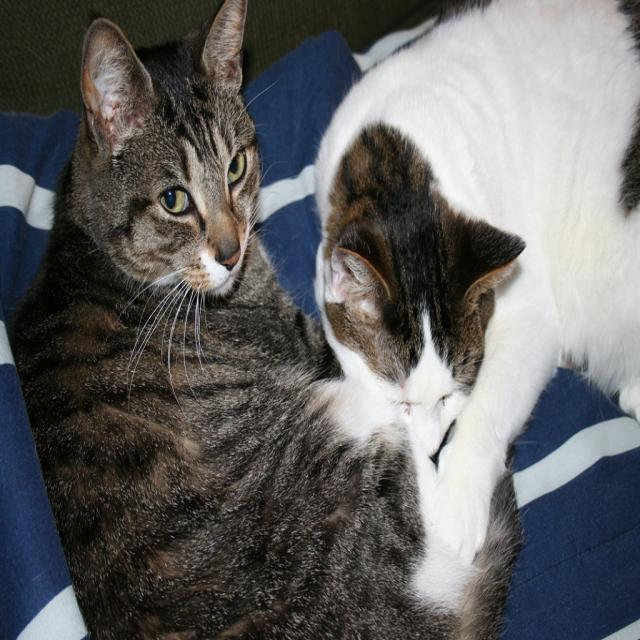Cat: (6, 0, 532, 638), (301, 0, 639, 568)
